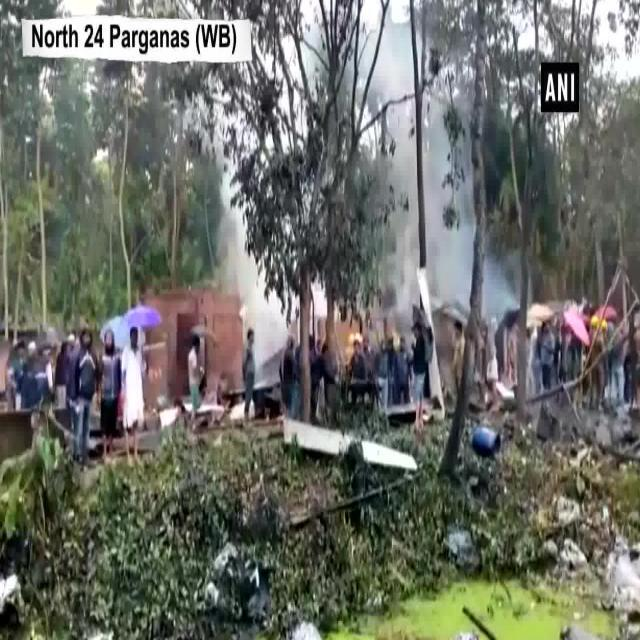Smoke: (368, 32, 413, 94), (432, 230, 475, 286), (250, 289, 278, 347)
